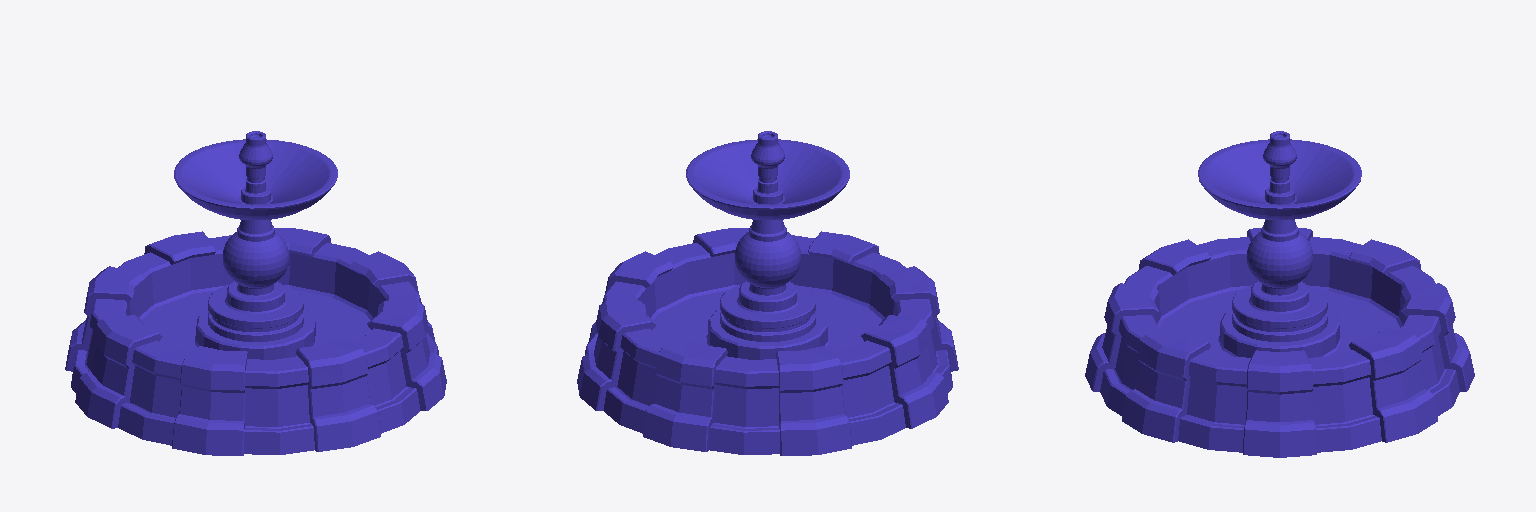
The model's file is fountain.obj.
3 renders of one model, left to right at view 1: azimuth 30°, elevation 25°; view 2: azimuth 150°, elevation 25°; view 3: azimuth 270°, elevation 25°, orthographic.
Visible parts, largest first — view 1: fountain1_Cylinder; view 2: fountain1_Cylinder; view 3: fountain1_Cylinder.
Boxes of the visible parts, x1=… form: fountain1_Cylinder: x1=65, y1=131, x2=446, y2=455; fountain1_Cylinder: x1=577, y1=131, x2=958, y2=455; fountain1_Cylinder: x1=1085, y1=131, x2=1474, y2=457.
Size of the model in its own units: 4.86 by 3.32 by 4.86.